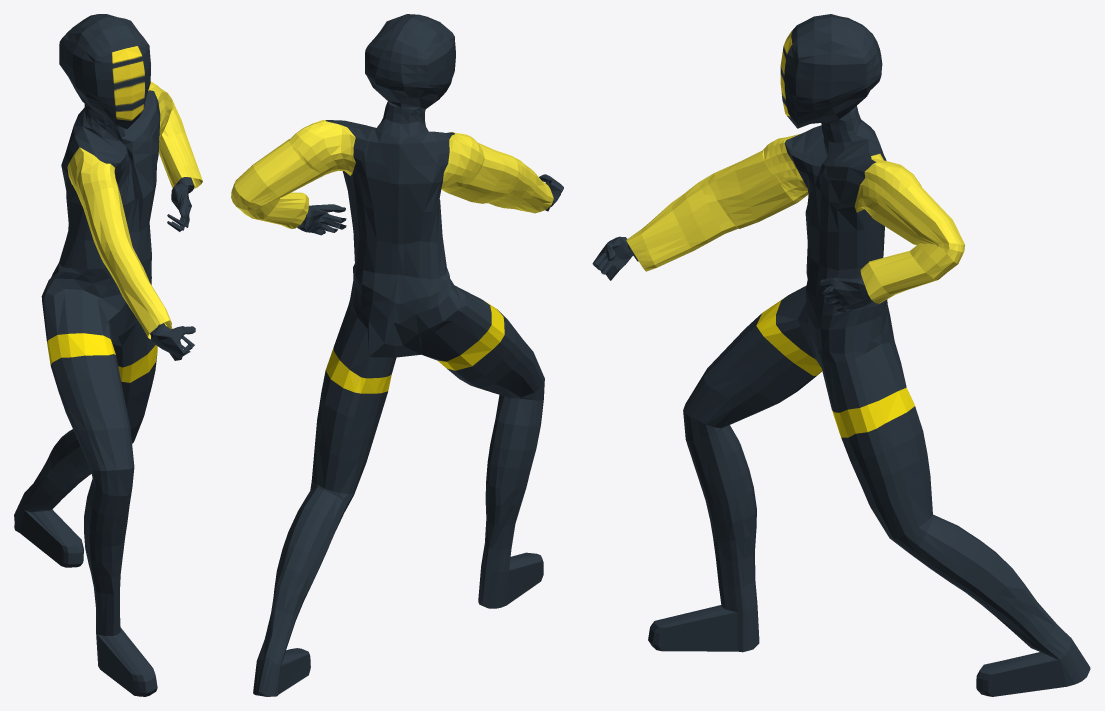
Rendered from Sentry_Hit_Stun_Recover_000008.obj.
3 renders of one model, left to right at view 1: azimuth 30°, elevation 25°; view 2: azimuth 150°, elevation 25°; view 3: azimuth 270°, elevation 25°, orthographic. The views are drawn at different scales.
Parts seen in each view (by area): view 1: Cube; view 2: Cube; view 3: Cube.
Boxes of the visible parts, bbox=[...] form: Cube: bbox=[14, 14, 202, 696]; Cube: bbox=[231, 14, 563, 696]; Cube: bbox=[592, 14, 1090, 696].
Size of the model in its own units: 1.23 by 3.6 by 2.48.
